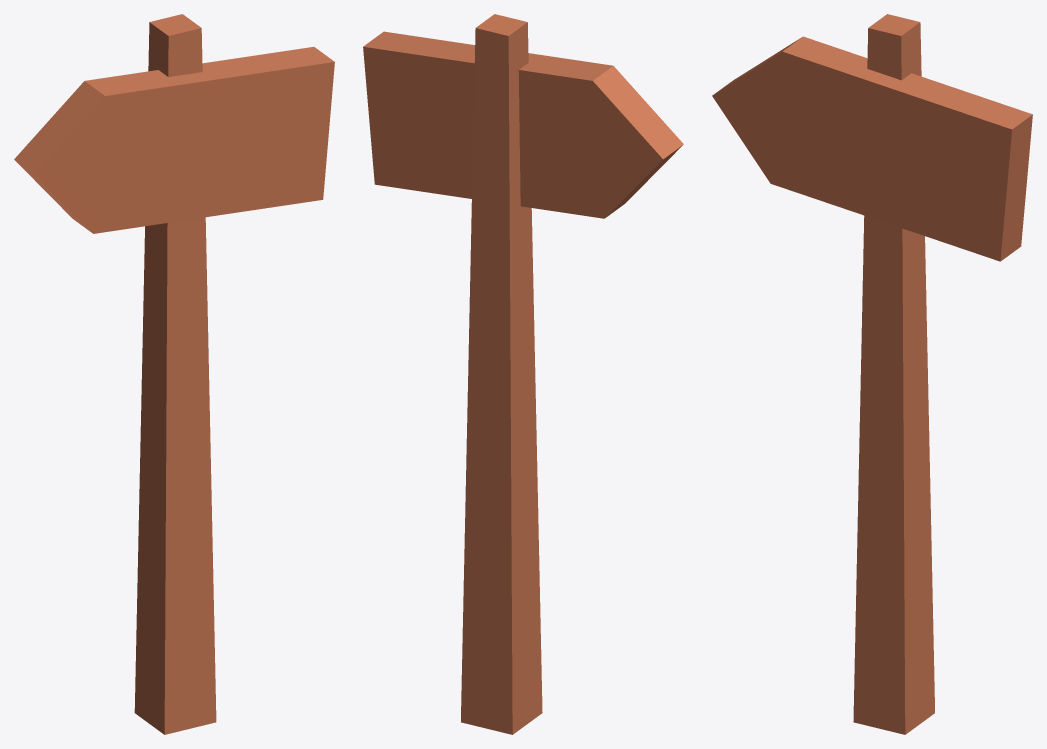
The model's file is signpost-single.obj.
3 renders of one model, left to right at view 1: azimuth 30°, elevation 25°; view 2: azimuth 150°, elevation 25°; view 3: azimuth 330°, elevation 25°, orthographic.
Size of the model in its own units: 0.2086 by 0.4601 by 0.043.
